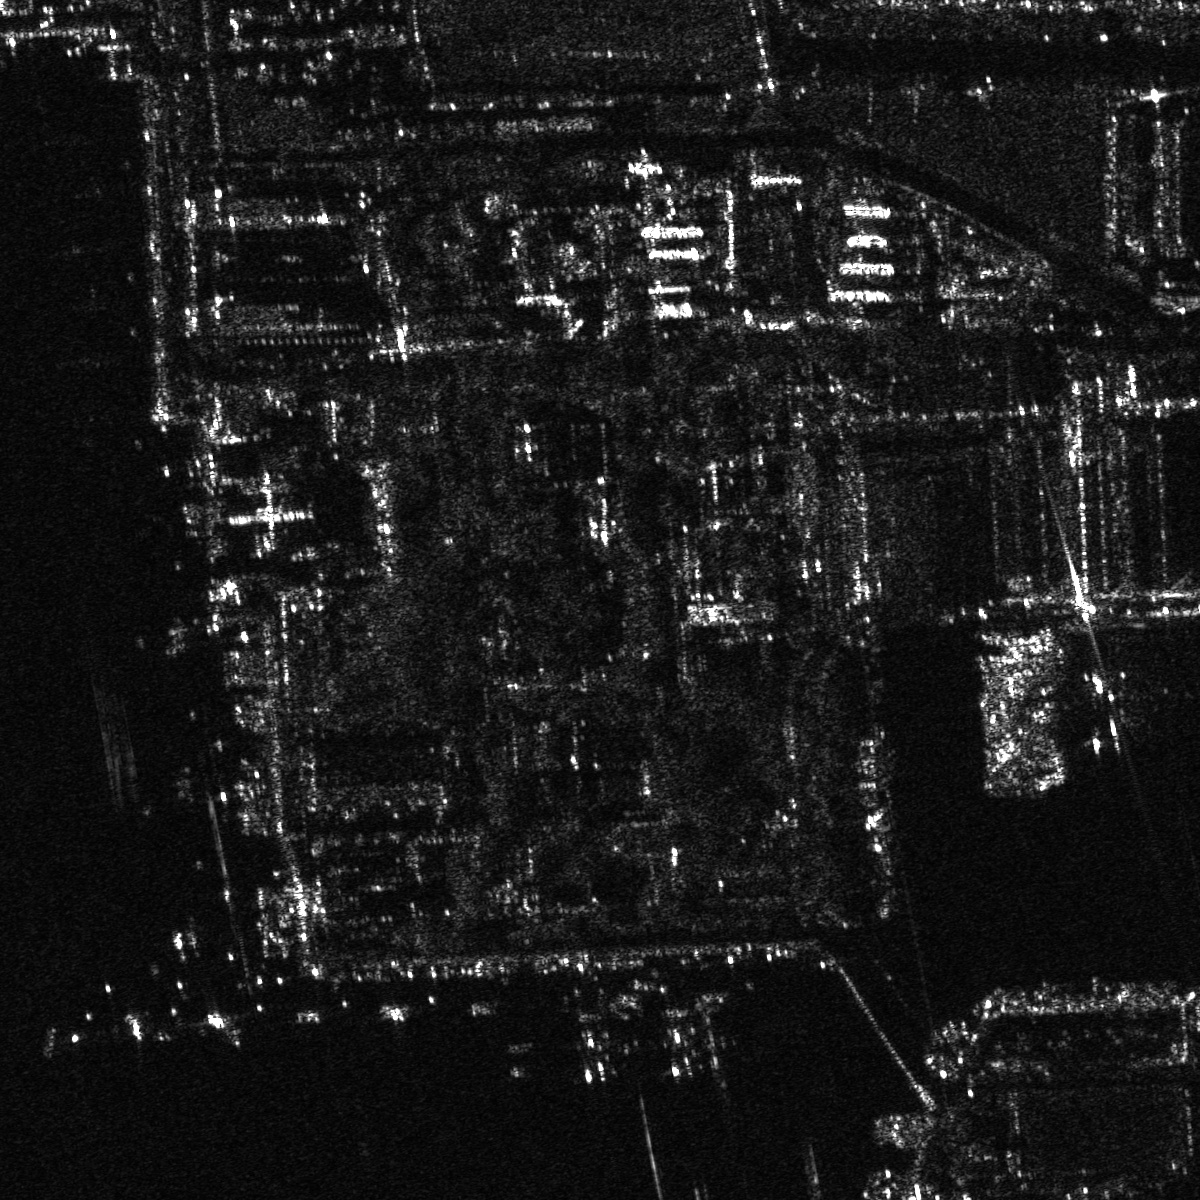ARJ21: (557, 1007, 621, 1093)
Boeing737: (1062, 664, 1151, 758), (651, 1003, 702, 1087)
